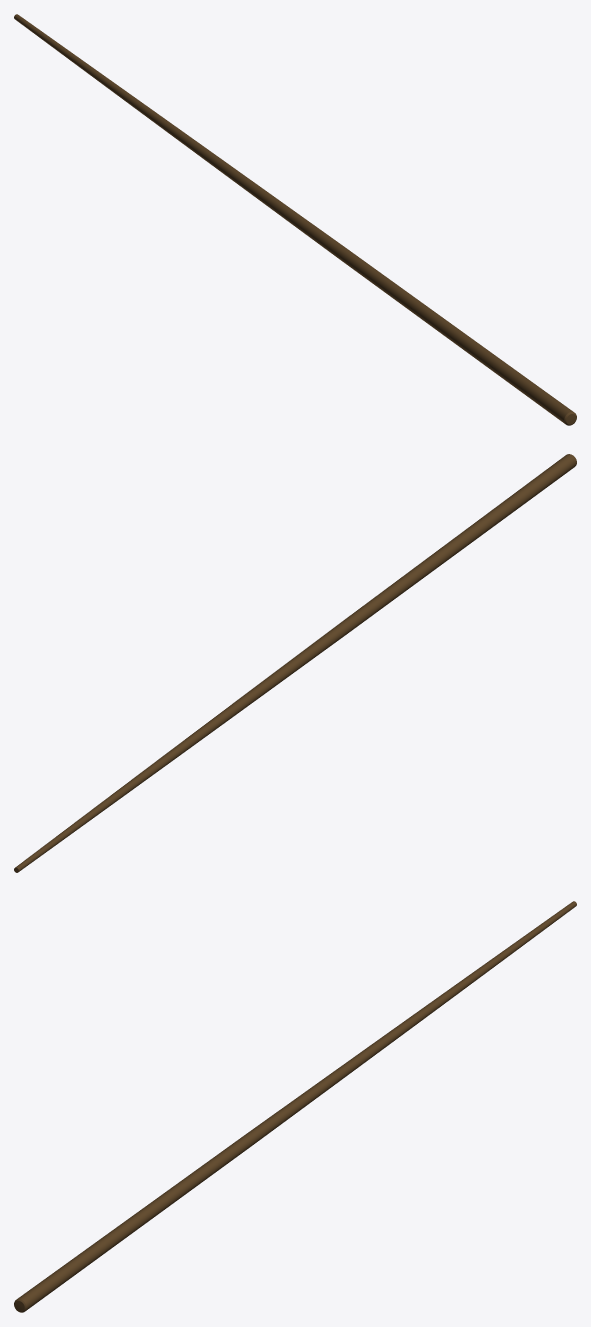
File: istaka.fbx
3 renders of one model, top to bottom at view 1: azimuth 30°, elevation 25°; view 2: azimuth 150°, elevation 25°; view 3: azimuth 330°, elevation 25°, orthographic.
Parts seen in each view (by area): view 1: Cue01; view 2: Cue01; view 3: Cue01.
Part boxes in pixels (box(x1,y1,x2,y2)): Cue01: box(14, 14, 576, 425); Cue01: box(14, 454, 576, 872); Cue01: box(14, 901, 576, 1312).
Size of the model in its own units: 1.95 by 2.05 by 146.
